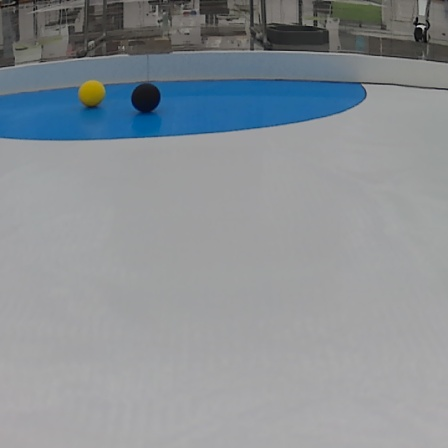black: (133, 85, 159, 113)
blue_base: (0, 80, 376, 144)
yellow: (77, 79, 105, 107)
